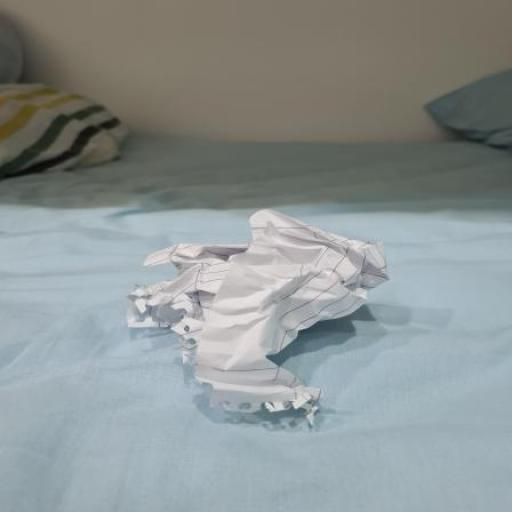paper: (133, 206, 392, 417)
